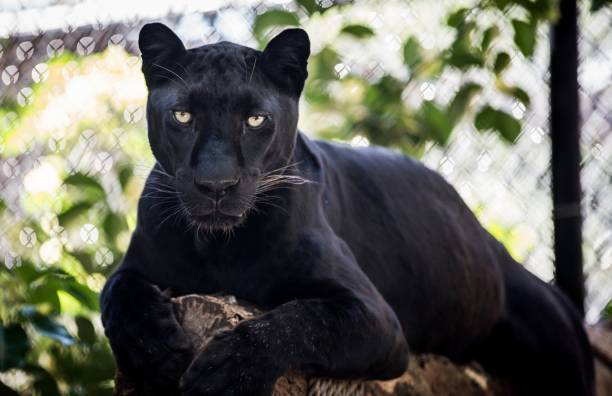panther: (121, 13, 331, 250)
